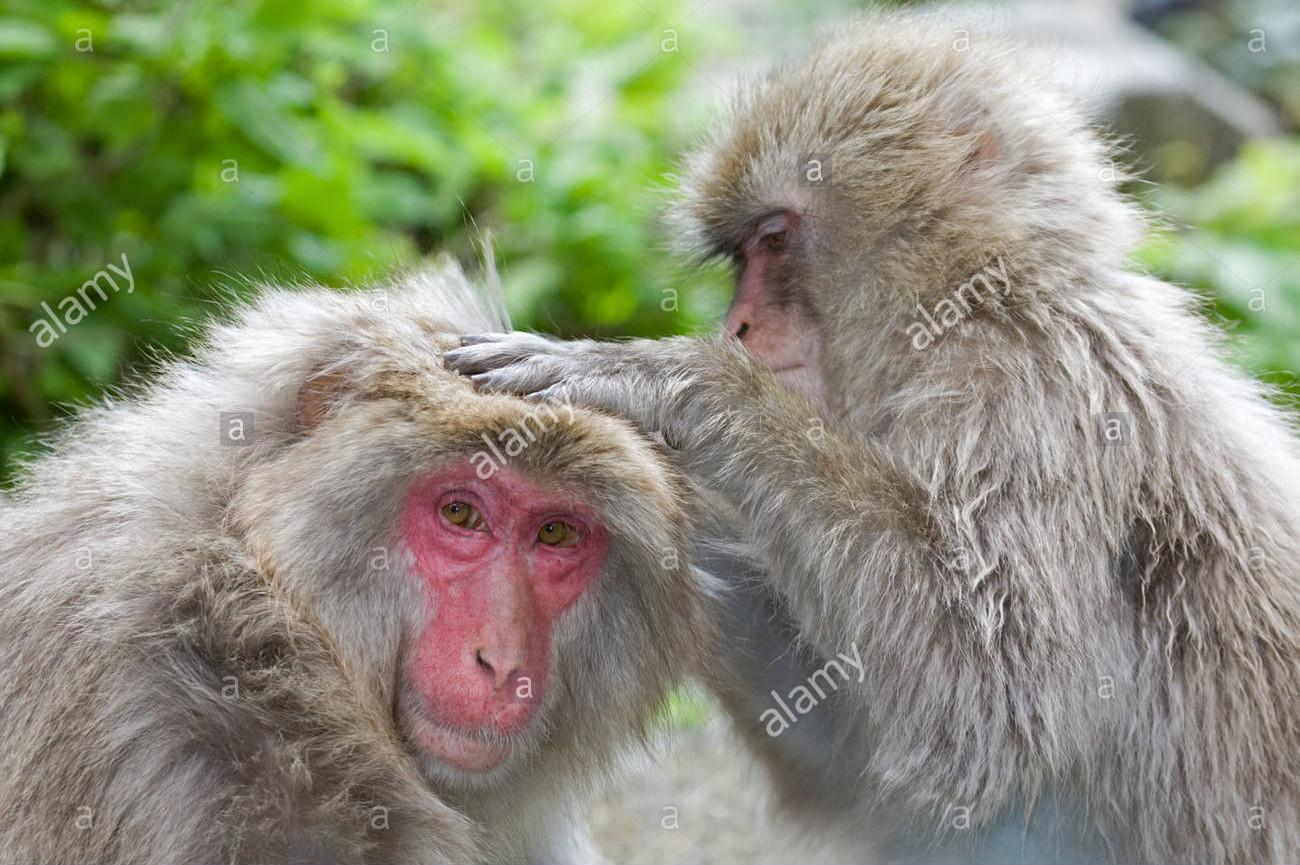monkey: (0, 27, 1300, 865)
